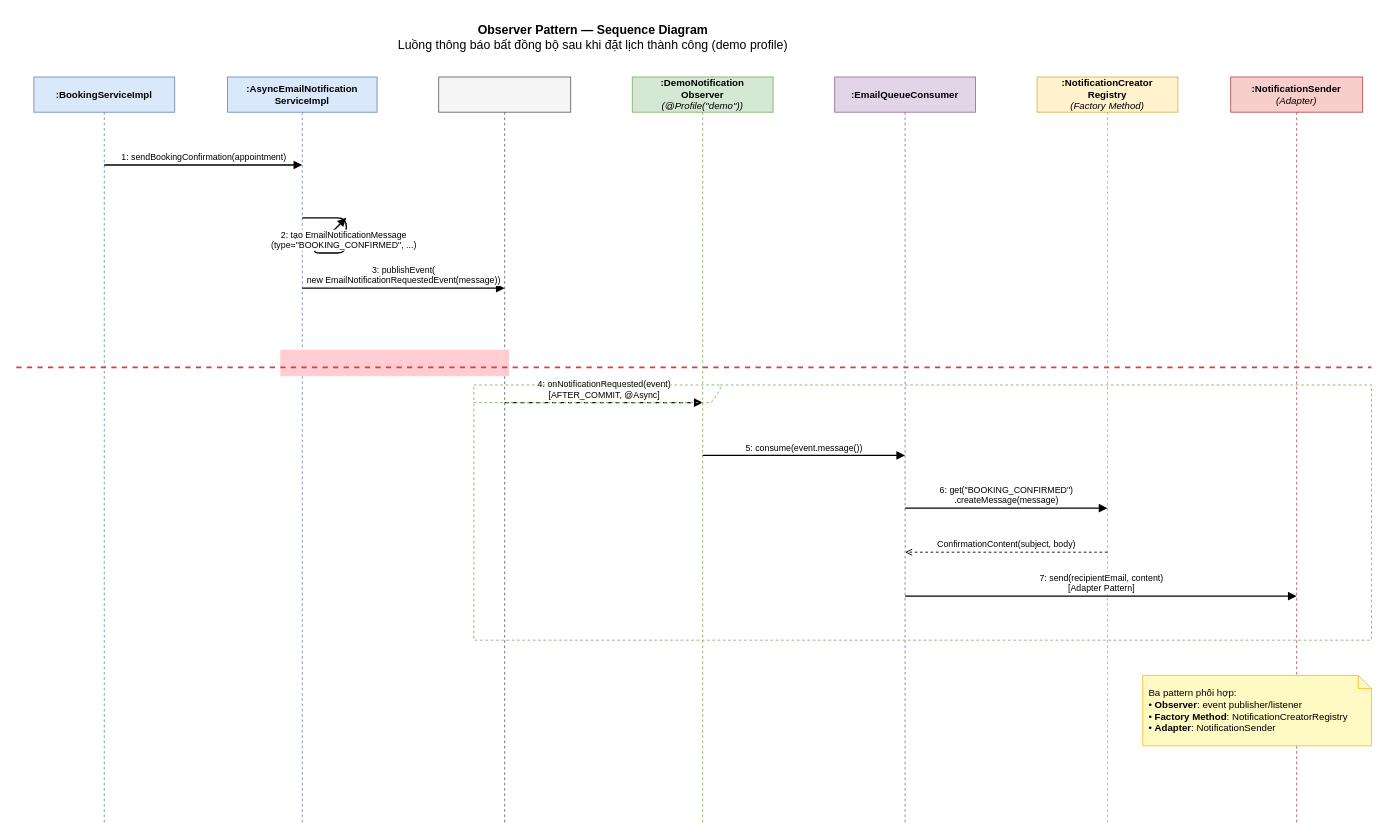
The diagram is 1388 pixels wide and 840 high, and some of its shapes have lost their labels. Each missing label, with the box of its shape:
:ApplicationEvent Publisher (Spring): (438, 76, 571, 825)
async (luồng riêng, sau khi DB commit): (473, 384, 1371, 640)
──── TRANSACTION COMMIT ────: (280, 349, 509, 376)
